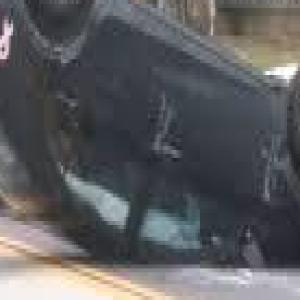severe: (0, 0, 300, 280)
